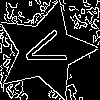V: (21, 26, 77, 73)
